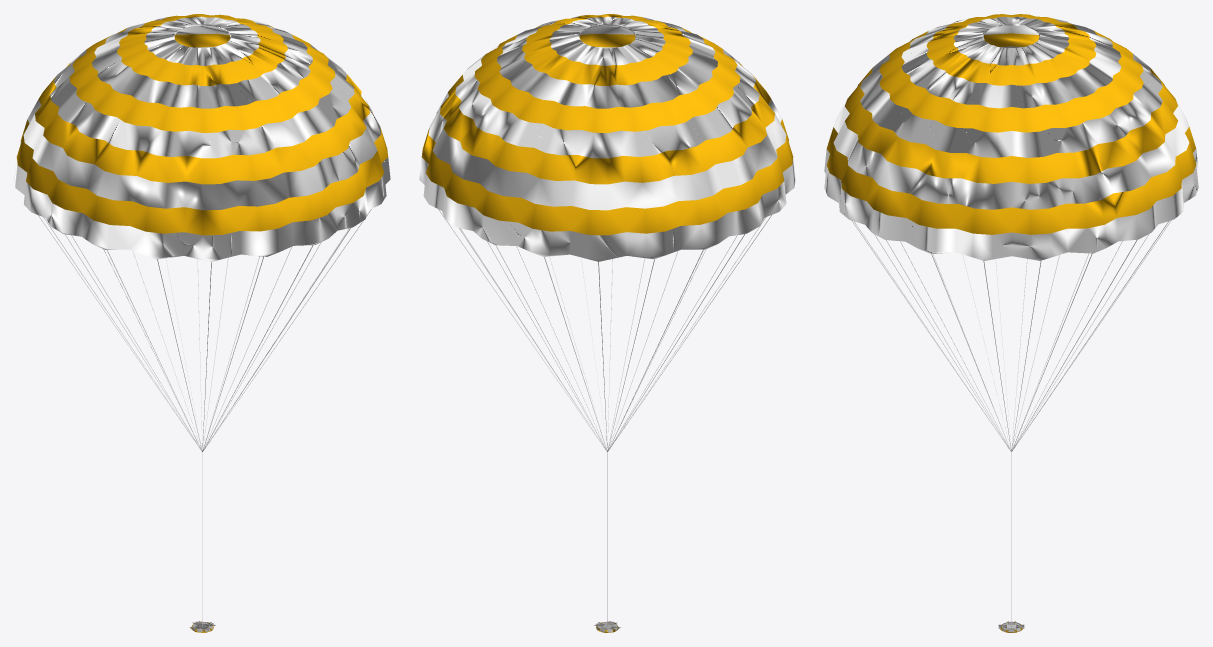
The model's file is parachutedrood.fbx.
3 views of the same model, side by side, from view 1: azimuth 30°, elevation 25°; view 2: azimuth 150°, elevation 25°; view 3: azimuth 270°, elevation 25° (orthographic).
Parts seen in each view (by area): view 1: New_mesh; view 2: New_mesh; view 3: New_mesh.
Boxes of the visible parts, x1,y1,x2,y2 form: New_mesh: (14, 14, 390, 632); New_mesh: (419, 14, 795, 632); New_mesh: (824, 14, 1198, 632).
Bounding box in the file's own units: 796 × 1390 × 796.
